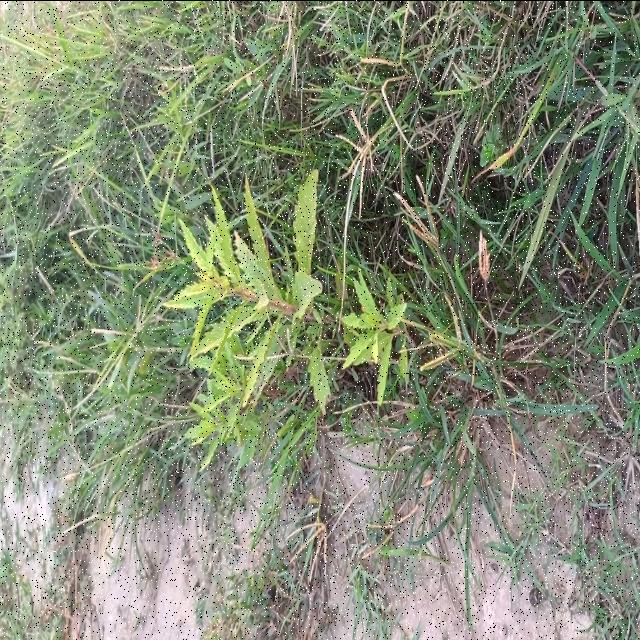weed: (164, 168, 335, 465), (341, 269, 411, 403)
